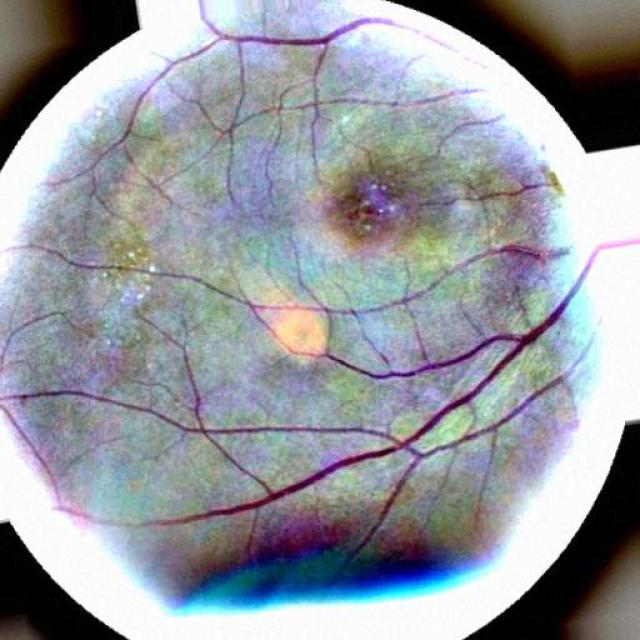Macula: (271, 308, 330, 356)
Nerves: (0, 239, 639, 554), (70, 1, 481, 200), (10, 244, 569, 339)
